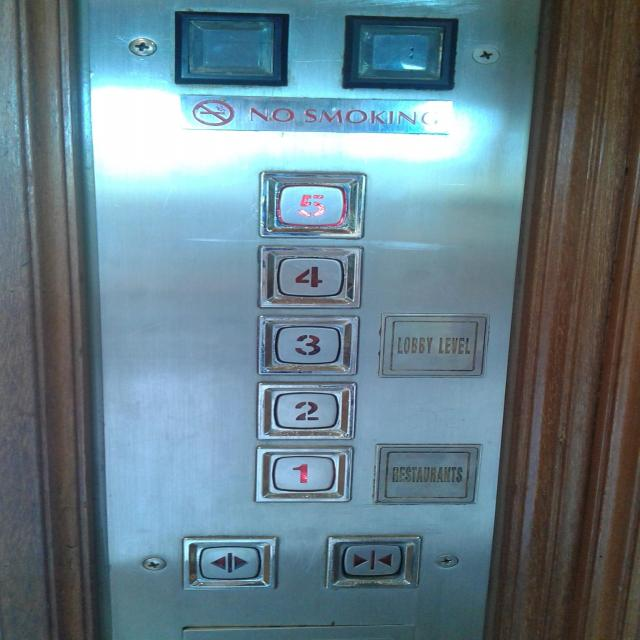1: (253, 445, 355, 504)
2: (256, 378, 360, 442)
3: (256, 314, 362, 376)
4: (256, 244, 364, 309)
5: (256, 169, 366, 240)
close: (323, 535, 422, 590)
empty: (338, 13, 464, 91), (170, 8, 291, 88)
open: (179, 534, 278, 590)
